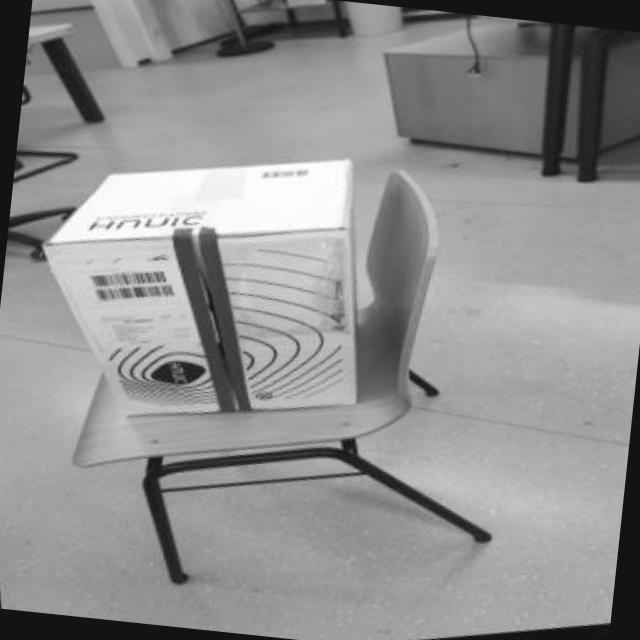box: (21, 108, 439, 470)
